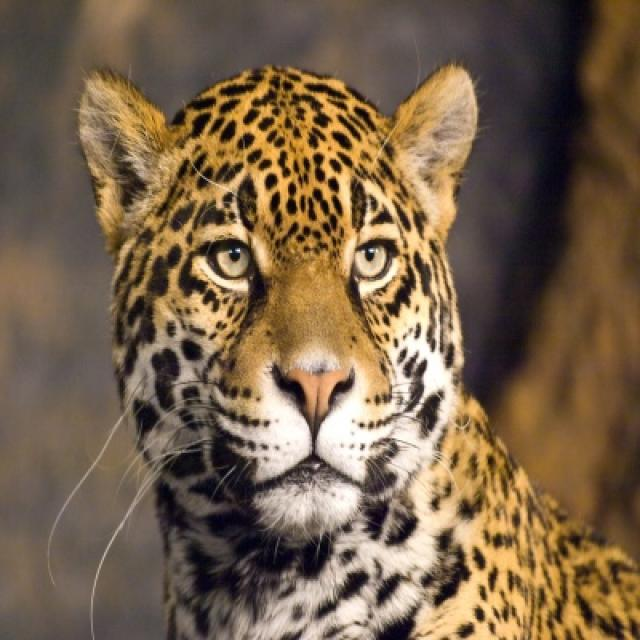Jaguar: (77, 64, 638, 638)
